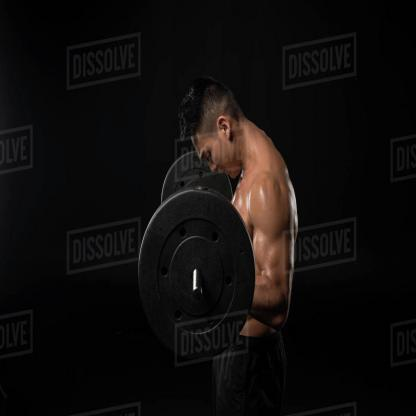Barbell: (130, 182, 263, 363)
